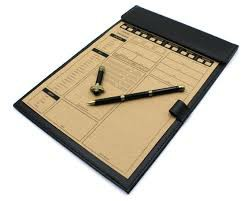pen: (80, 81, 189, 104)
